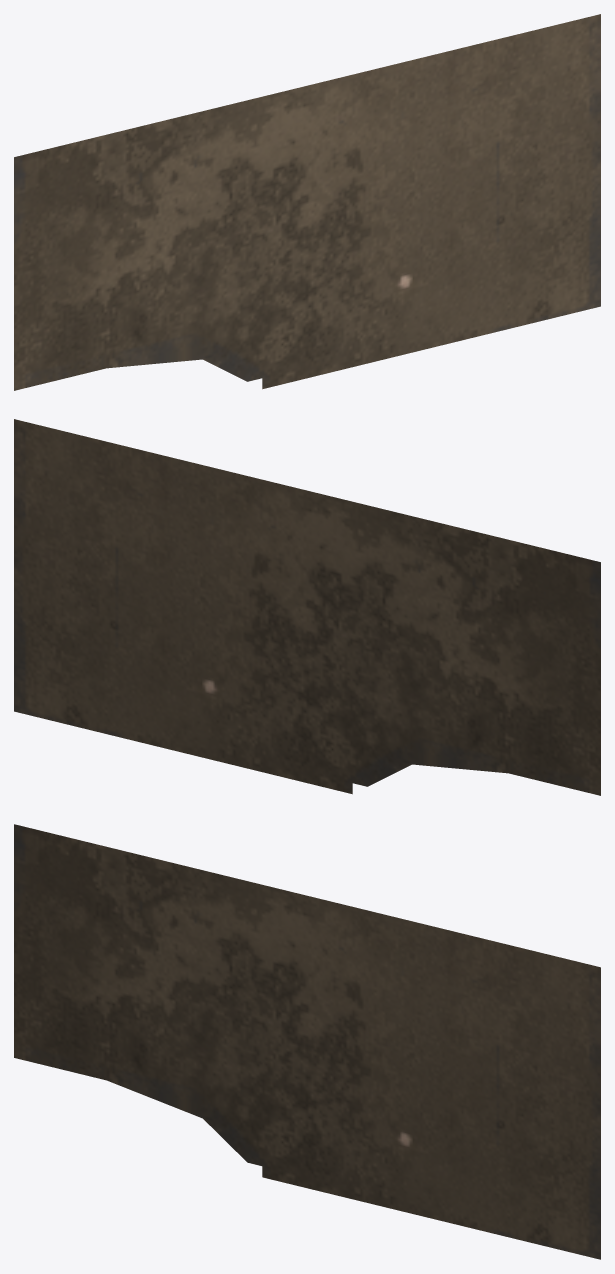
Rendered from Esquerda I.fbx.
3 renders of one model, top to bottom at view 1: azimuth 30°, elevation 25°; view 2: azimuth 150°, elevation 25°; view 3: azimuth 330°, elevation 25°, orthographic.
Visible parts, largest first — view 1: Esquerda I; view 2: Esquerda I; view 3: Esquerda I.
Boxes of the visible parts, x1=… form: Esquerda I: x1=14, y1=14, x2=600, y2=390; Esquerda I: x1=14, y1=419, x2=600, y2=795; Esquerda I: x1=14, y1=824, x2=600, y2=1259.
Size of the model in its own units: 1567 by 747 by 3.05e-05.
